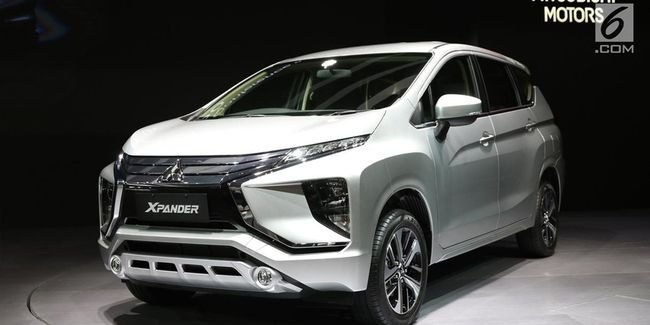mobil: (81, 30, 567, 325)
